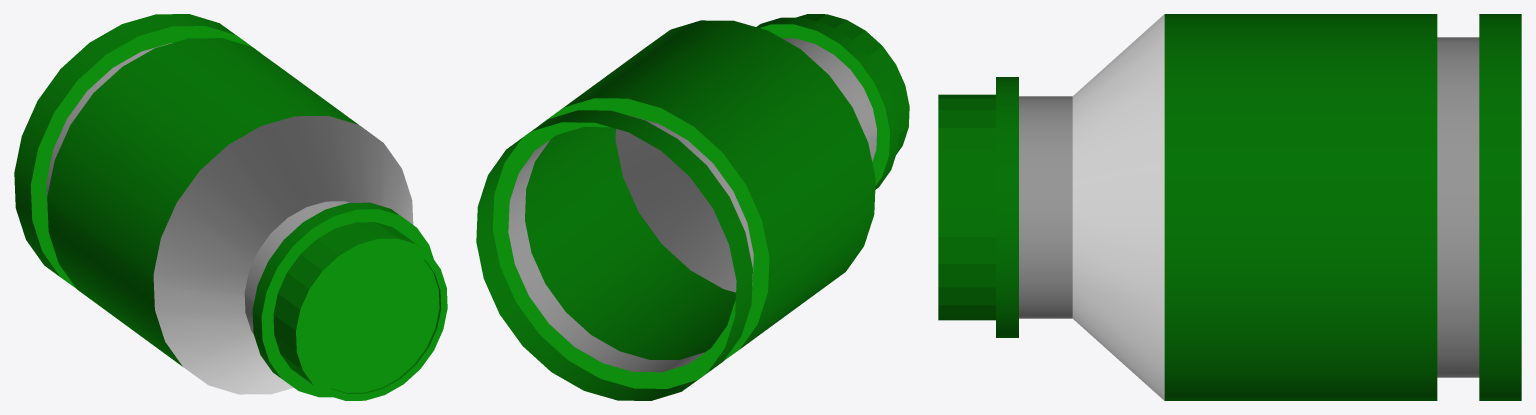
Rendered from model_align.obj.
3 renders of one model, left to right at view 1: azimuth 30°, elevation 25°; view 2: azimuth 150°, elevation 25°; view 3: azimuth 270°, elevation 25°, orthographic. The views are drawn at different scales.
Parts seen in each view (by area): view 1: mesh1_mesh1-geometry; view 2: mesh1_mesh1-geometry; view 3: mesh1_mesh1-geometry.
Boxes of the visible parts, x1,y1,x2,y2 form: mesh1_mesh1-geometry: (14,14,447,400); mesh1_mesh1-geometry: (476,14,909,400); mesh1_mesh1-geometry: (938,14,1521,400).
Bounding box in the file's own units: 0.1408 × 0.1408 × 0.2131.
